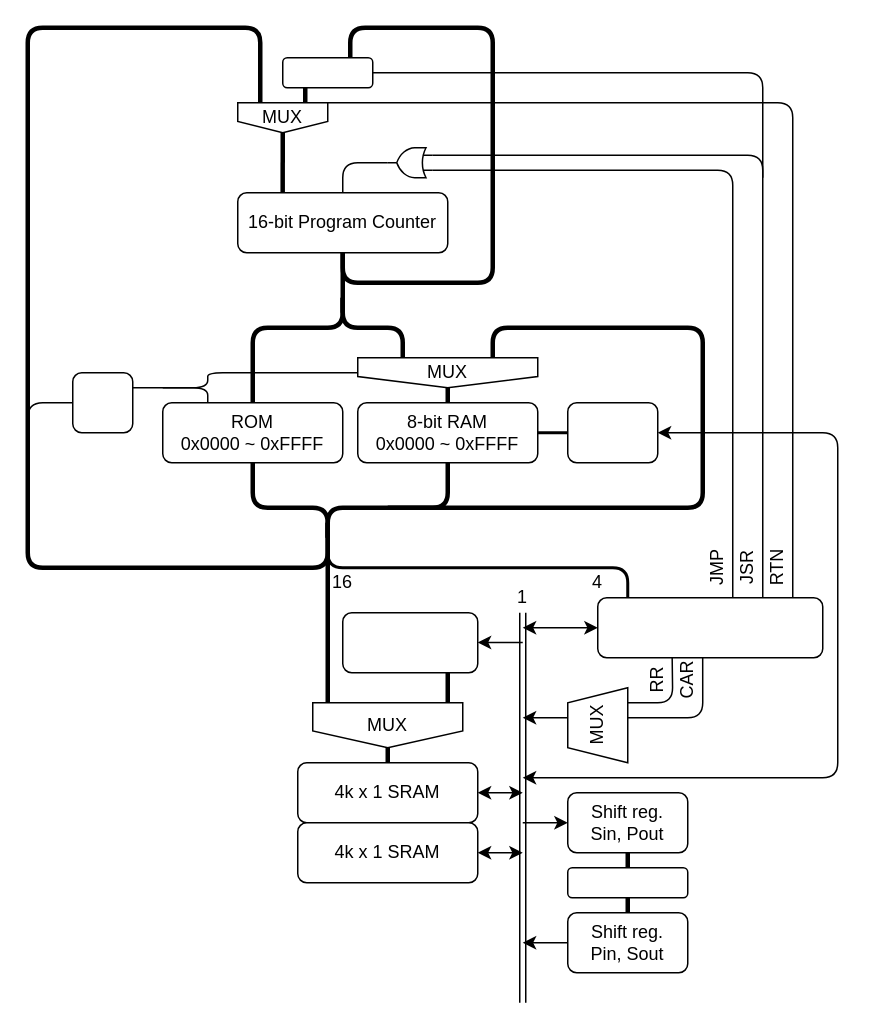
This 878x1029 diagram has some shape labels left out. Here are the shapes that lost their labels. From the top down, the centre of each, then its label:
point 327,72: 16-bit RA
point 102,402: Bank Control
point 612,432: 8-bit Shift Regsiter
point 409,642: X Register Sin, Pout, Incr.
point 709,627: MC/UE14500
point 627,882: UART
